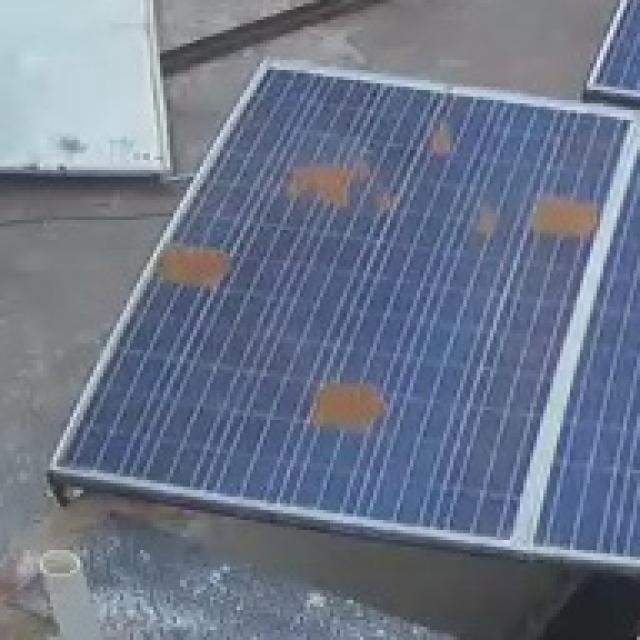Dusty: (274, 152, 404, 219), (296, 379, 394, 434), (521, 184, 605, 245), (159, 249, 242, 292), (413, 116, 472, 163), (466, 194, 502, 241)
